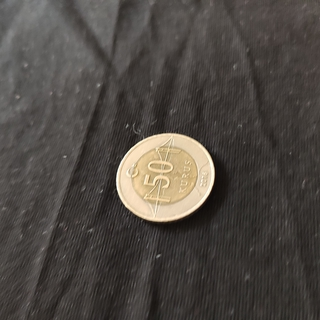50KURUS: (115, 131, 217, 224)
